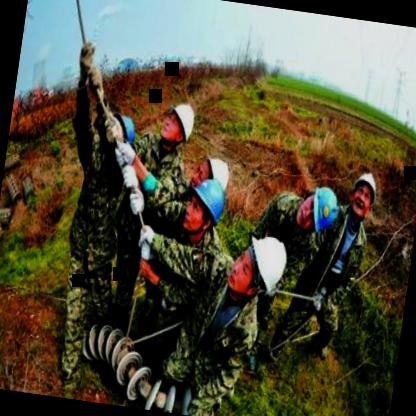helmet: (224, 222, 298, 312), (172, 166, 233, 244), (156, 96, 199, 154), (300, 182, 338, 236), (187, 154, 234, 196), (346, 167, 380, 223), (101, 106, 138, 152)
